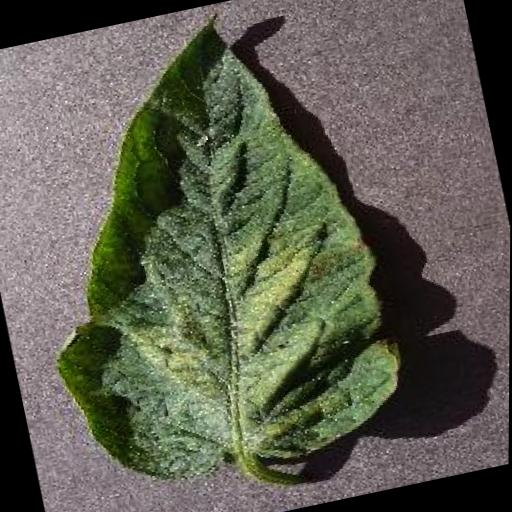Spider Mites: (0, 0, 417, 503)
